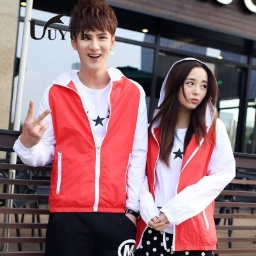face: (67, 2, 118, 73), (163, 59, 212, 124)
